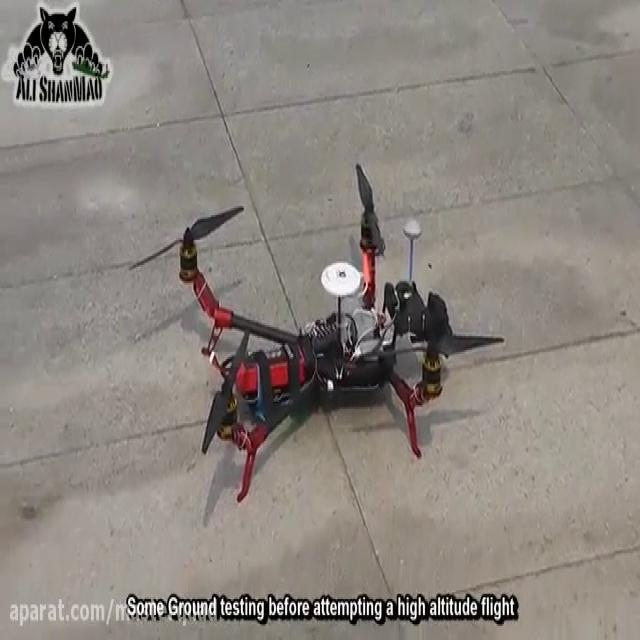drone: (125, 158, 505, 510)
